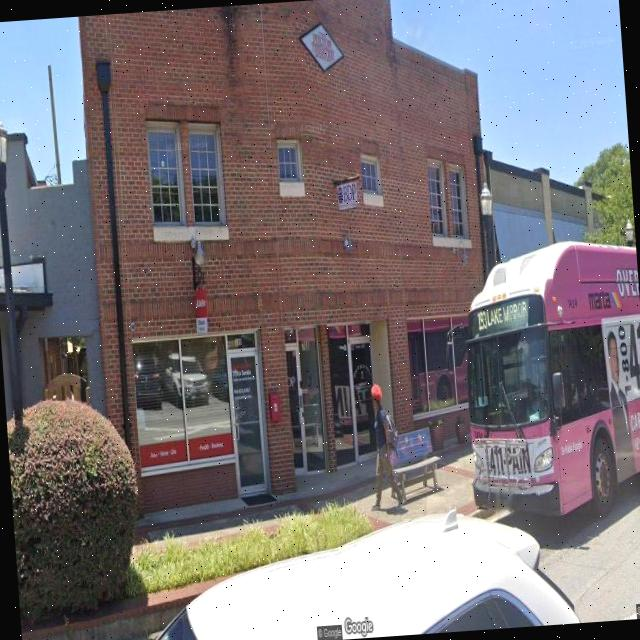seating: (386, 424, 444, 504)
